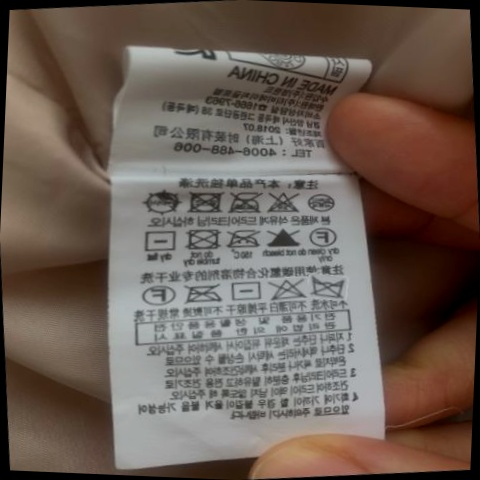DN_bleach: (260, 187, 300, 217), (261, 222, 300, 251), (268, 278, 305, 304)
DN_iron: (224, 223, 261, 253), (183, 279, 223, 306)
DN_tumble_dry: (182, 188, 223, 216), (182, 225, 223, 252)
DN_wash: (307, 273, 345, 300)
dry_clean_petrol_only: (135, 282, 179, 309), (304, 191, 337, 215), (305, 226, 339, 247)
dry_flat: (223, 278, 267, 304), (142, 229, 178, 251)
dry_flat_in_shade: (138, 185, 181, 217)
iron_high: (224, 187, 263, 217)
